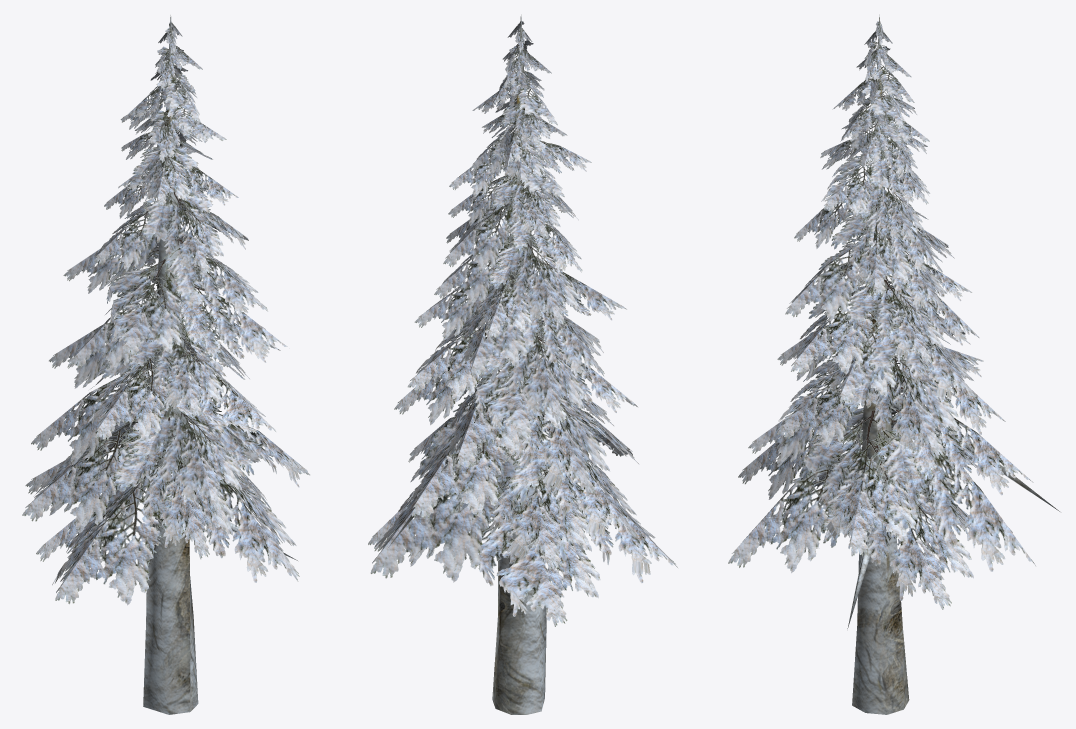
File: SM_EN_2007_zhiwu03.FBX
3 renders of one model, left to right at view 1: azimuth 30°, elevation 25°; view 2: azimuth 150°, elevation 25°; view 3: azimuth 270°, elevation 25°, orthographic.
Parts seen in each view (by area): view 1: SM_EN_2007_zhiwu0301, SM_EN_2007_zhiwu0302, SM_EN_2007_zhiwu0303; view 2: SM_EN_2007_zhiwu0301, SM_EN_2007_zhiwu0302, SM_EN_2007_zhiwu0303; view 3: SM_EN_2007_zhiwu0301, SM_EN_2007_zhiwu0302, SM_EN_2007_zhiwu0303.
Boxes of the visible parts, left/top/right/bottom form: SM_EN_2007_zhiwu0301: left=22, top=22, right=307, bottom=604; SM_EN_2007_zhiwu0302: left=143, top=15, right=297, bottom=714; SM_EN_2007_zhiwu0303: left=23, top=23, right=309, bottom=605; SM_EN_2007_zhiwu0301: left=368, top=21, right=676, bottom=626; SM_EN_2007_zhiwu0302: left=388, top=14, right=546, bottom=714; SM_EN_2007_zhiwu0303: left=372, top=21, right=677, bottom=626; SM_EN_2007_zhiwu0301: left=728, top=21, right=1035, bottom=609; SM_EN_2007_zhiwu0302: left=847, top=14, right=1059, bottom=714; SM_EN_2007_zhiwu0303: left=728, top=26, right=1034, bottom=608.
Size of the model in its own units: 255 by 619 by 279.
